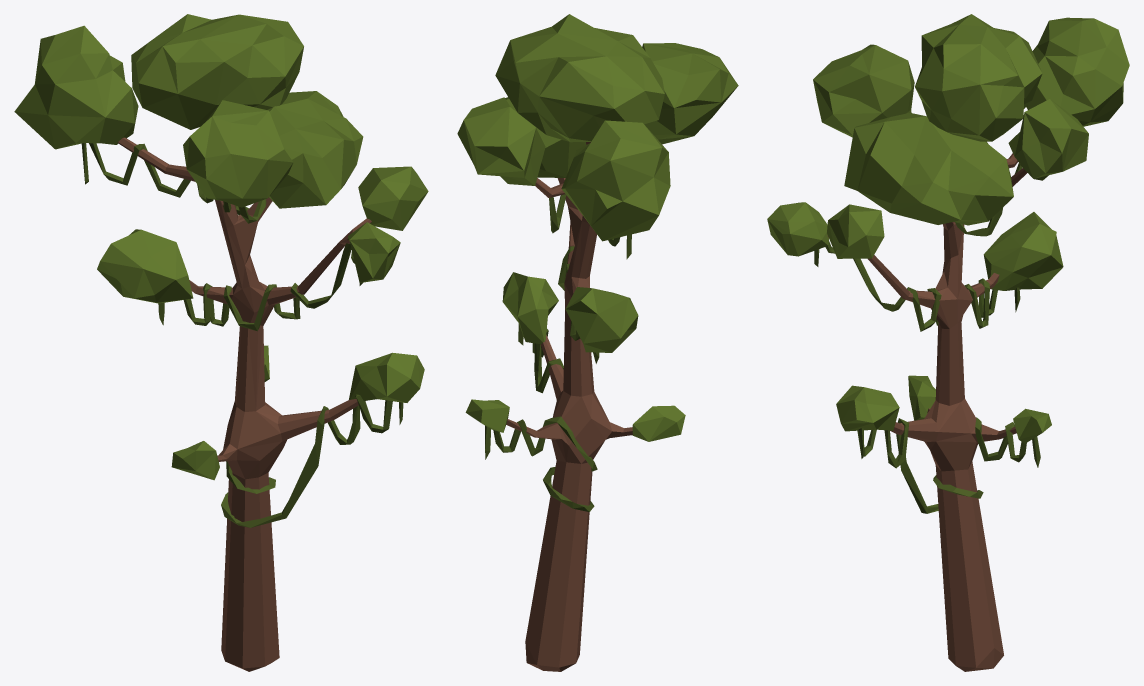
The model's file is TreeJungleBig.fbx.
3 renders of one model, left to right at view 1: azimuth 30°, elevation 25°; view 2: azimuth 150°, elevation 25°; view 3: azimuth 270°, elevation 25°, orthographic. The views are drawn at different scales.
Parts seen in each view (by area): view 1: Cube, BigJungleTree, Vert.002; view 2: Cube, BigJungleTree, Vert.002; view 3: Cube, BigJungleTree, Vert.002.
Part boxes in pixels (x1,y1,x2,y2): Cube: (14,14,428,480); BigJungleTree: (117,137,371,671); Vert.002: (81,143,403,527); Cube: (457,14,738,441); BigJungleTree: (506,142,632,671); Vert.002: (485,182,631,511); Cube: (767,14,1129,443); BigJungleTree: (827,153,1027,671); Vert.002: (814,163,1040,513).
Size of the model in its own units: 844 by 1851 by 979.
